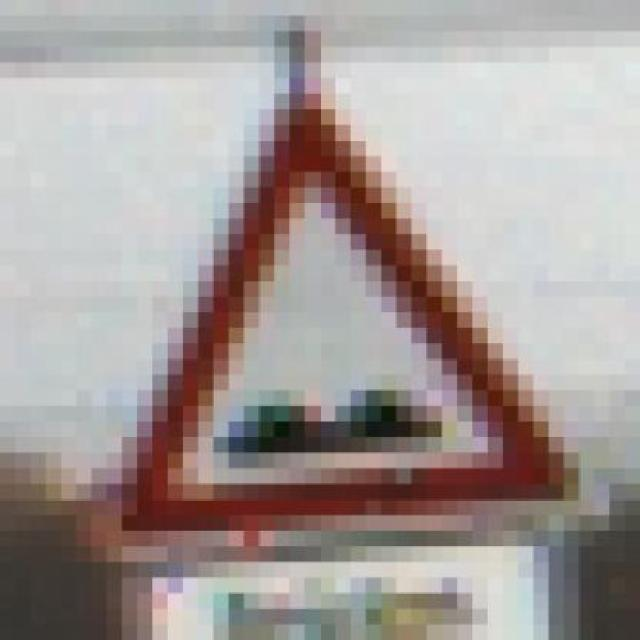Uneven Road: (76, 94, 595, 546)
